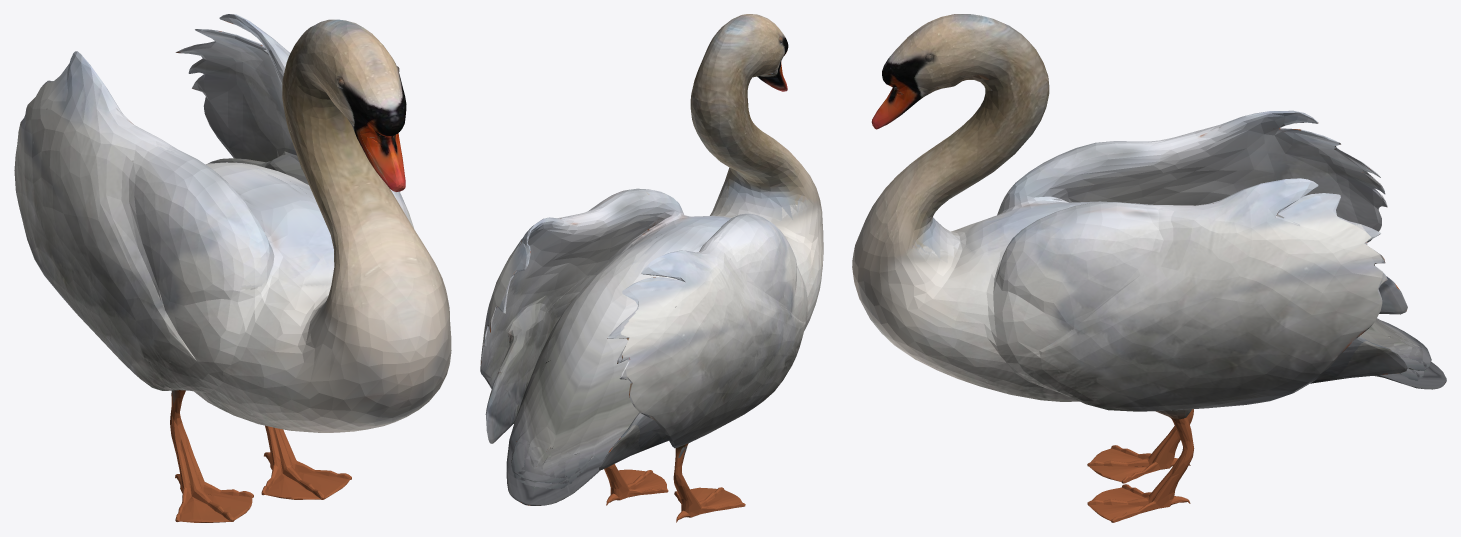
Rendered from Swan.fbx.
3 renders of one model, left to right at view 1: azimuth 30°, elevation 25°; view 2: azimuth 150°, elevation 25°; view 3: azimuth 270°, elevation 25°, orthographic. The views are drawn at different scales.
Visible parts, largest first — view 1: 12255_Mute_Swan_v1_l3; view 2: 12255_Mute_Swan_v1_l3; view 3: 12255_Mute_Swan_v1_l3.
Boxes of the visible parts, x1,y1,x2,y2 form: 12255_Mute_Swan_v1_l3: (14, 14, 451, 522); 12255_Mute_Swan_v1_l3: (480, 14, 823, 522); 12255_Mute_Swan_v1_l3: (852, 14, 1446, 522).
Bounding box in the file's own units: 285 × 528 × 607.
1 material, 1 textured.
